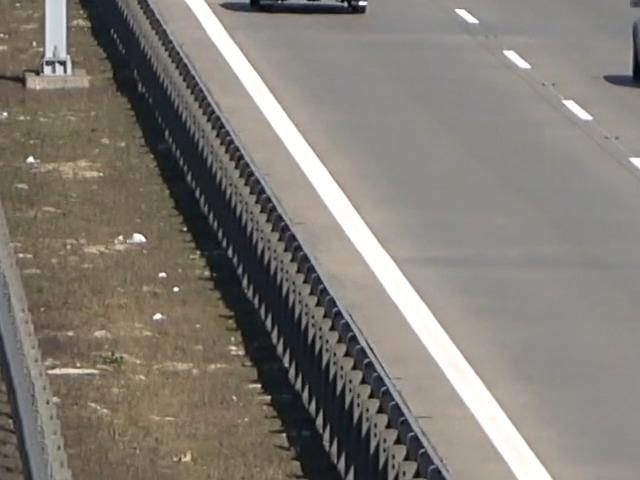car: (238, 0, 384, 24)
